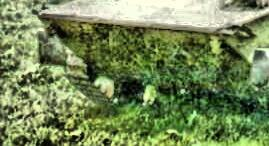tanks: (41, 1, 269, 107)
